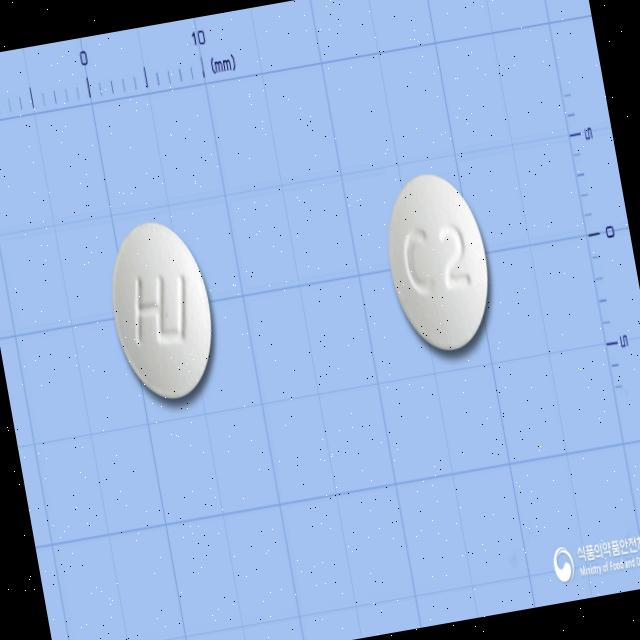Huloxacin: (99, 212, 226, 407), (374, 165, 501, 358)
